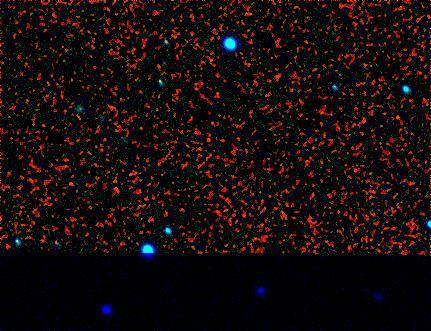star: (312, 53, 342, 83)
